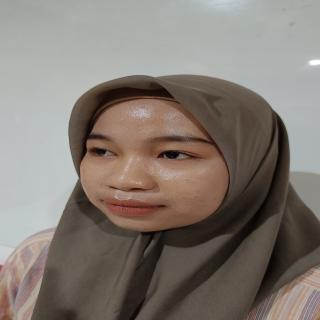Netral: (74, 86, 251, 240)
